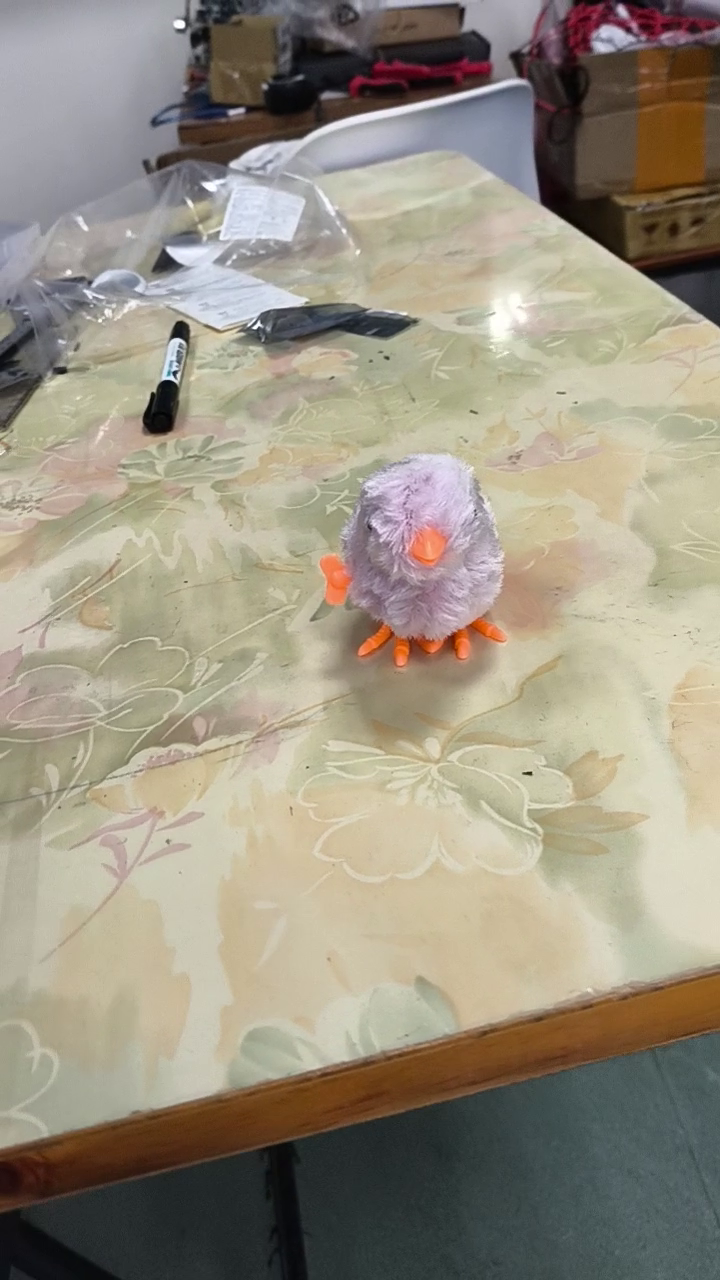pink chicken: (318, 452, 515, 673)
